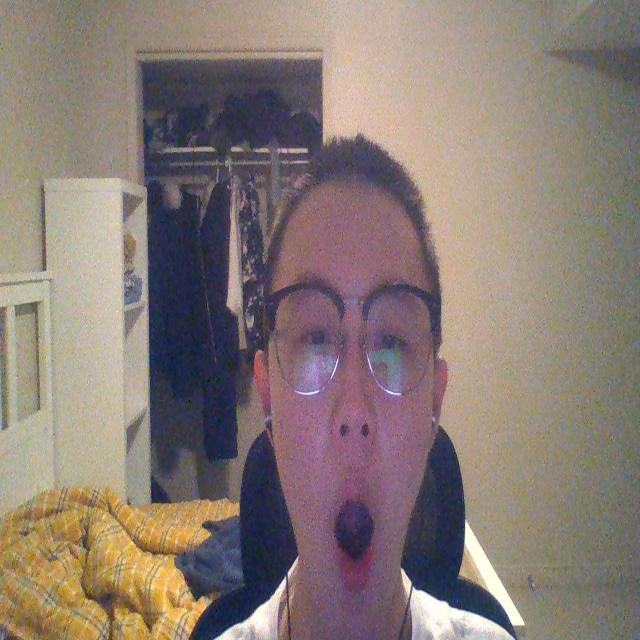Yawn: (266, 272, 431, 579)
